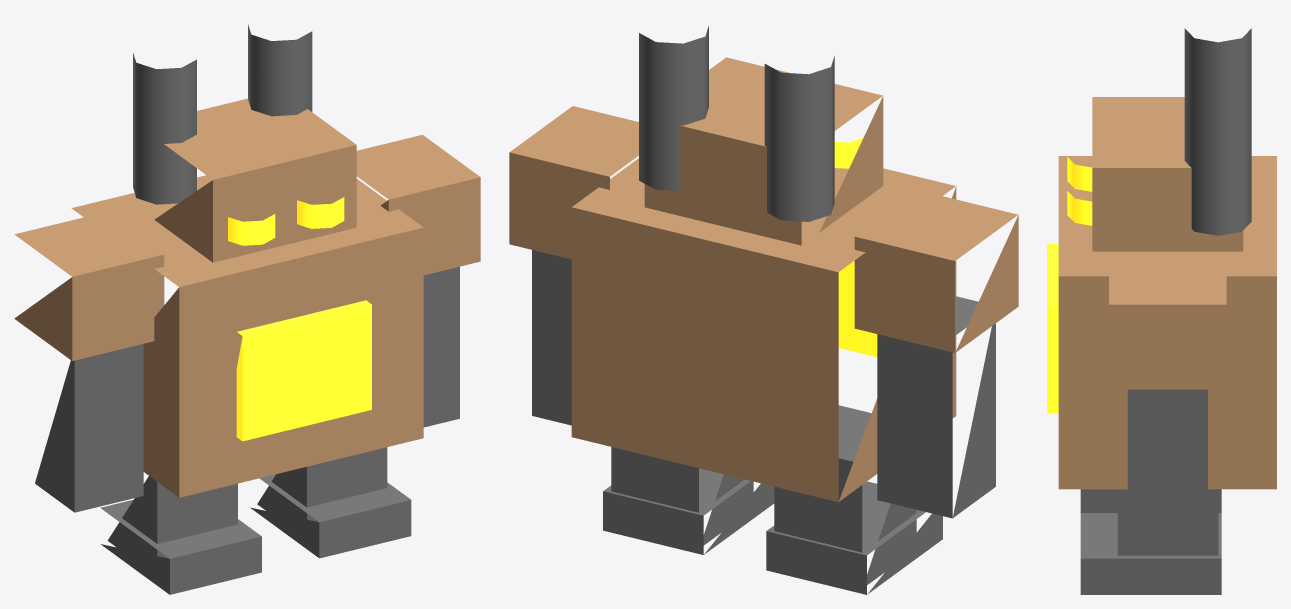
File: golem_steam_02.glb
3 views of the same model, side by side, from view 1: azimuth 30°, elevation 25°; view 2: azimuth 150°, elevation 25°; view 3: azimuth 270°, elevation 25° (orthographic). The views are drawn at different scales.
Visible parts, largest first — view 1: SteamBody, SteamIron, SteamGlow; view 2: SteamBody, SteamIron, SteamGlow; view 3: SteamBody, SteamIron, SteamGlow.
Part boxes in pixels (x1=…): SteamBody: x1=14, y1=98, x2=480, y2=497; SteamIron: x1=35, y1=24, x2=459, y2=594; SteamGlow: x1=228, y1=197, x2=371, y2=441; SteamBody: x1=509, y1=57, x2=1018, y2=502; SteamIron: x1=532, y1=26, x2=995, y2=594; SteamGlow: x1=834, y1=138, x2=877, y2=357; SteamBody: x1=1058, y1=97, x2=1276, y2=489; SteamIron: x1=1080, y1=28, x2=1251, y2=594; SteamGlow: x1=1047, y1=157, x2=1092, y2=413.
Size of the model in its own units: 1.42 by 1.58 by 0.685.
